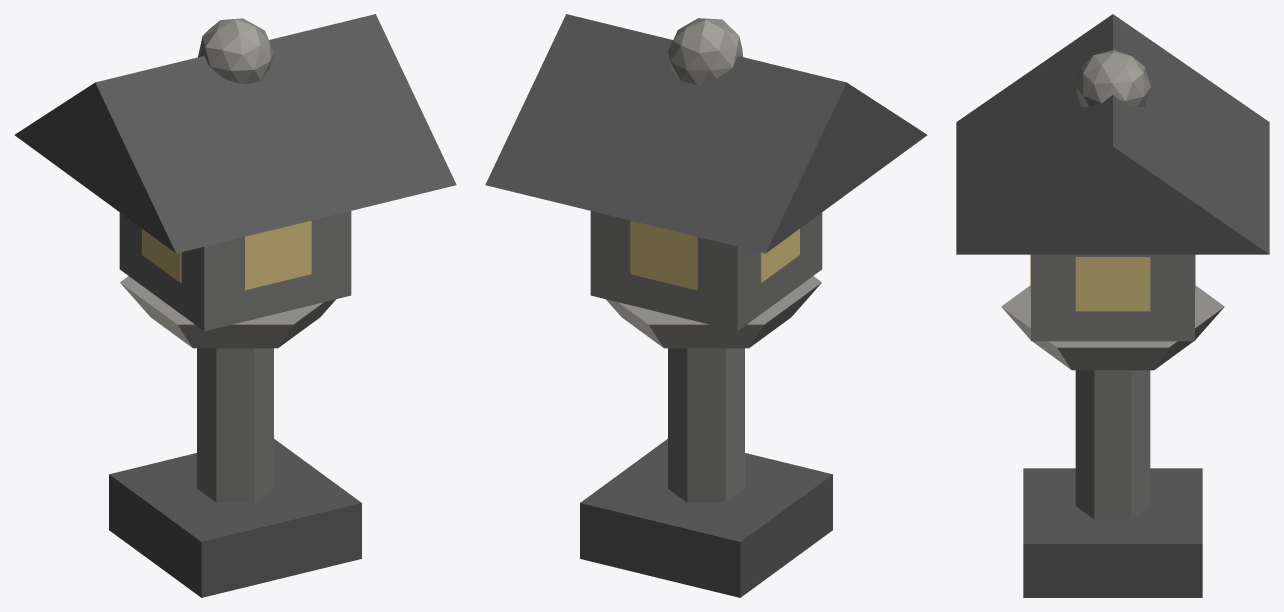
The model's file is Scatter_StoneLantern.fbx.
3 renders of one model, left to right at view 1: azimuth 30°, elevation 25°; view 2: azimuth 150°, elevation 25°; view 3: azimuth 270°, elevation 25°, orthographic. The views are drawn at different scales.
Parts seen in each view (by area): view 1: StoneLantern; view 2: StoneLantern; view 3: StoneLantern.
Boxes of the visible parts, x1=… form: StoneLantern: x1=14, y1=14, x2=456, y2=597; StoneLantern: x1=485, y1=14, x2=927, y2=597; StoneLantern: x1=956, y1=14, x2=1269, y2=597.
Bounding box in the file's own units: 4.2 × 7.51 × 4.2.
